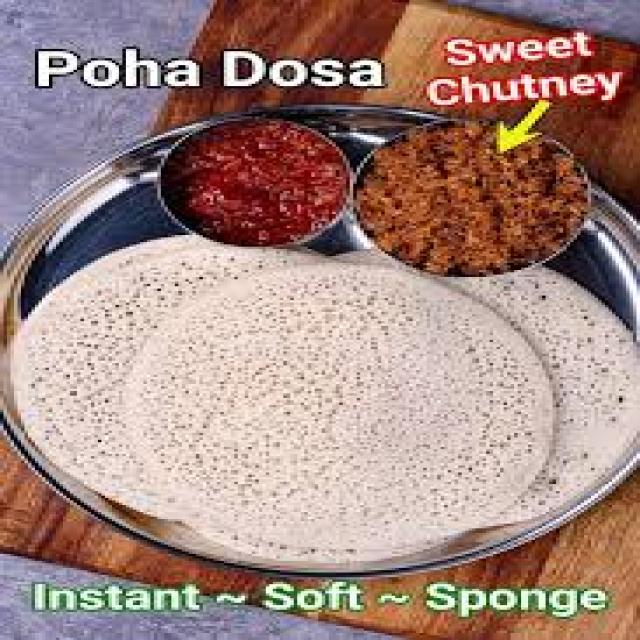DOSA: (140, 263, 553, 559), (14, 235, 293, 517), (458, 268, 637, 507)
